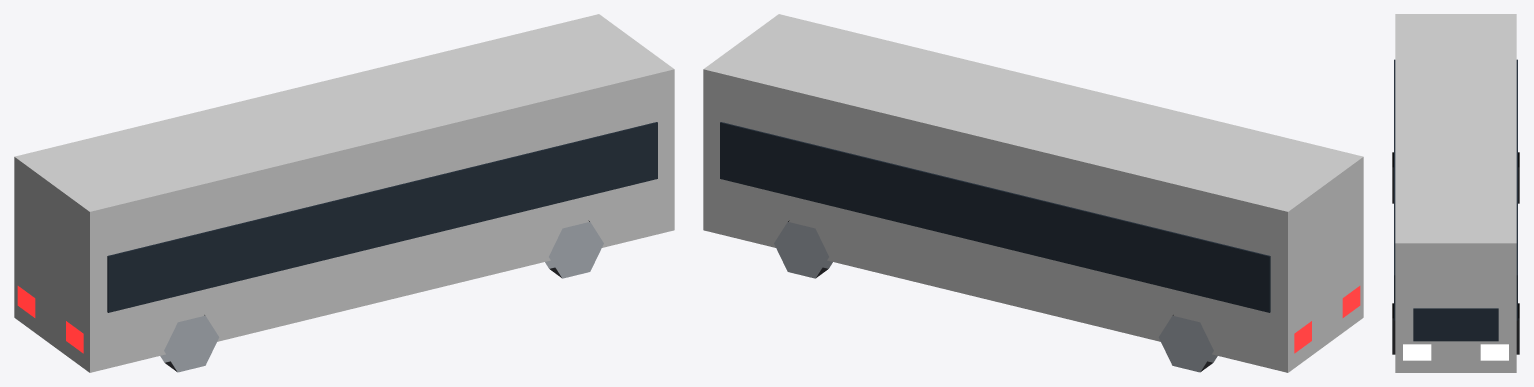
File: bus_city.glb
3 views of the same model, side by side, from view 1: azimuth 30°, elevation 25°; view 2: azimuth 150°, elevation 25°; view 3: azimuth 270°, elevation 25° (orthographic). The views are drawn at different scales.
Visible parts, largest first — view 1: bus_city; view 2: bus_city; view 3: bus_city.
Boxes of the visible parts, x1,y1,x2,y2 form: bus_city: (14, 14, 674, 372); bus_city: (703, 14, 1363, 372); bus_city: (1392, 14, 1519, 372).
Bounding box in the file's own units: 0.764 × 0.224 × 0.178.
